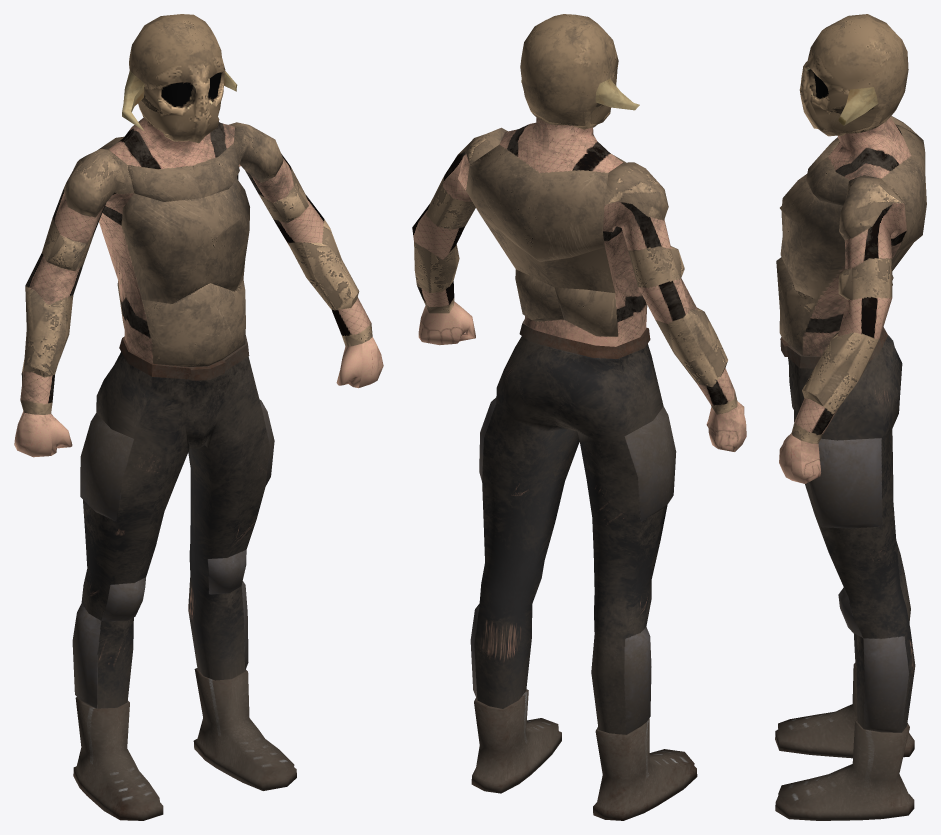
File: Anim_idle_npc1.0035.obj
3 renders of one model, left to right at view 1: azimuth 30°, elevation 25°; view 2: azimuth 150°, elevation 25°; view 3: azimuth 270°, elevation 25°, orthographic.
Parts seen in each view (by area): view 1: NPC2; view 2: NPC2; view 3: NPC2.
Boxes of the visible parts, bbox=[...] form: NPC2: bbox=[14, 14, 383, 820]; NPC2: bbox=[412, 14, 746, 820]; NPC2: bbox=[775, 14, 926, 820].
Size of the model in its own units: 4.55 by 9.66 by 1.74.
